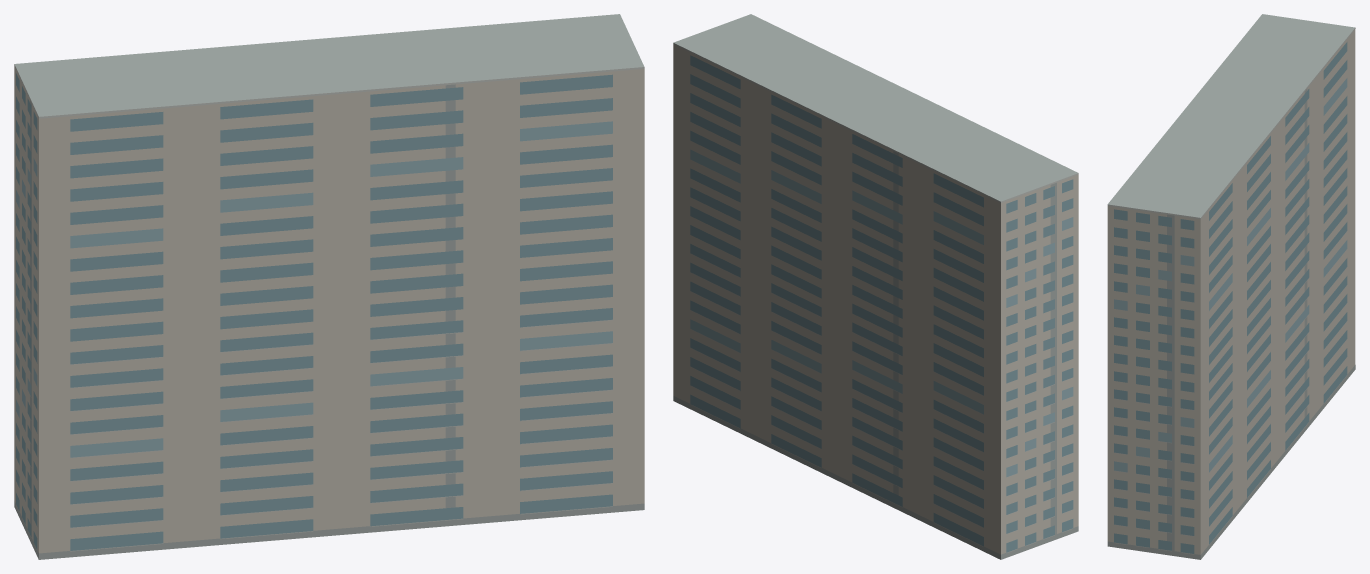
File: residential-d1498dba-3471-4bd7-b204-8d9544b1ee74.glb
3 views of the same model, side by side, from view 1: azimuth 30°, elevation 25°; view 2: azimuth 150°, elevation 25°; view 3: azimuth 270°, elevation 25° (orthographic). The views are drawn at different scales.
Parts seen in each view (by area): view 1: residential-d1498dba-3471-4bd7-b204-8d9544b1ee74.tmp; view 2: residential-d1498dba-3471-4bd7-b204-8d9544b1ee74.tmp; view 3: residential-d1498dba-3471-4bd7-b204-8d9544b1ee74.tmp.
Part boxes in pixels (x1,y1,x2,y2): residential-d1498dba-3471-4bd7-b204-8d9544b1ee74.tmp: (14, 14, 644, 559); residential-d1498dba-3471-4bd7-b204-8d9544b1ee74.tmp: (673, 14, 1078, 559); residential-d1498dba-3471-4bd7-b204-8d9544b1ee74.tmp: (1107, 14, 1355, 559).
Bounding box in the file's own units: 72.88 × 57 × 37.46.
